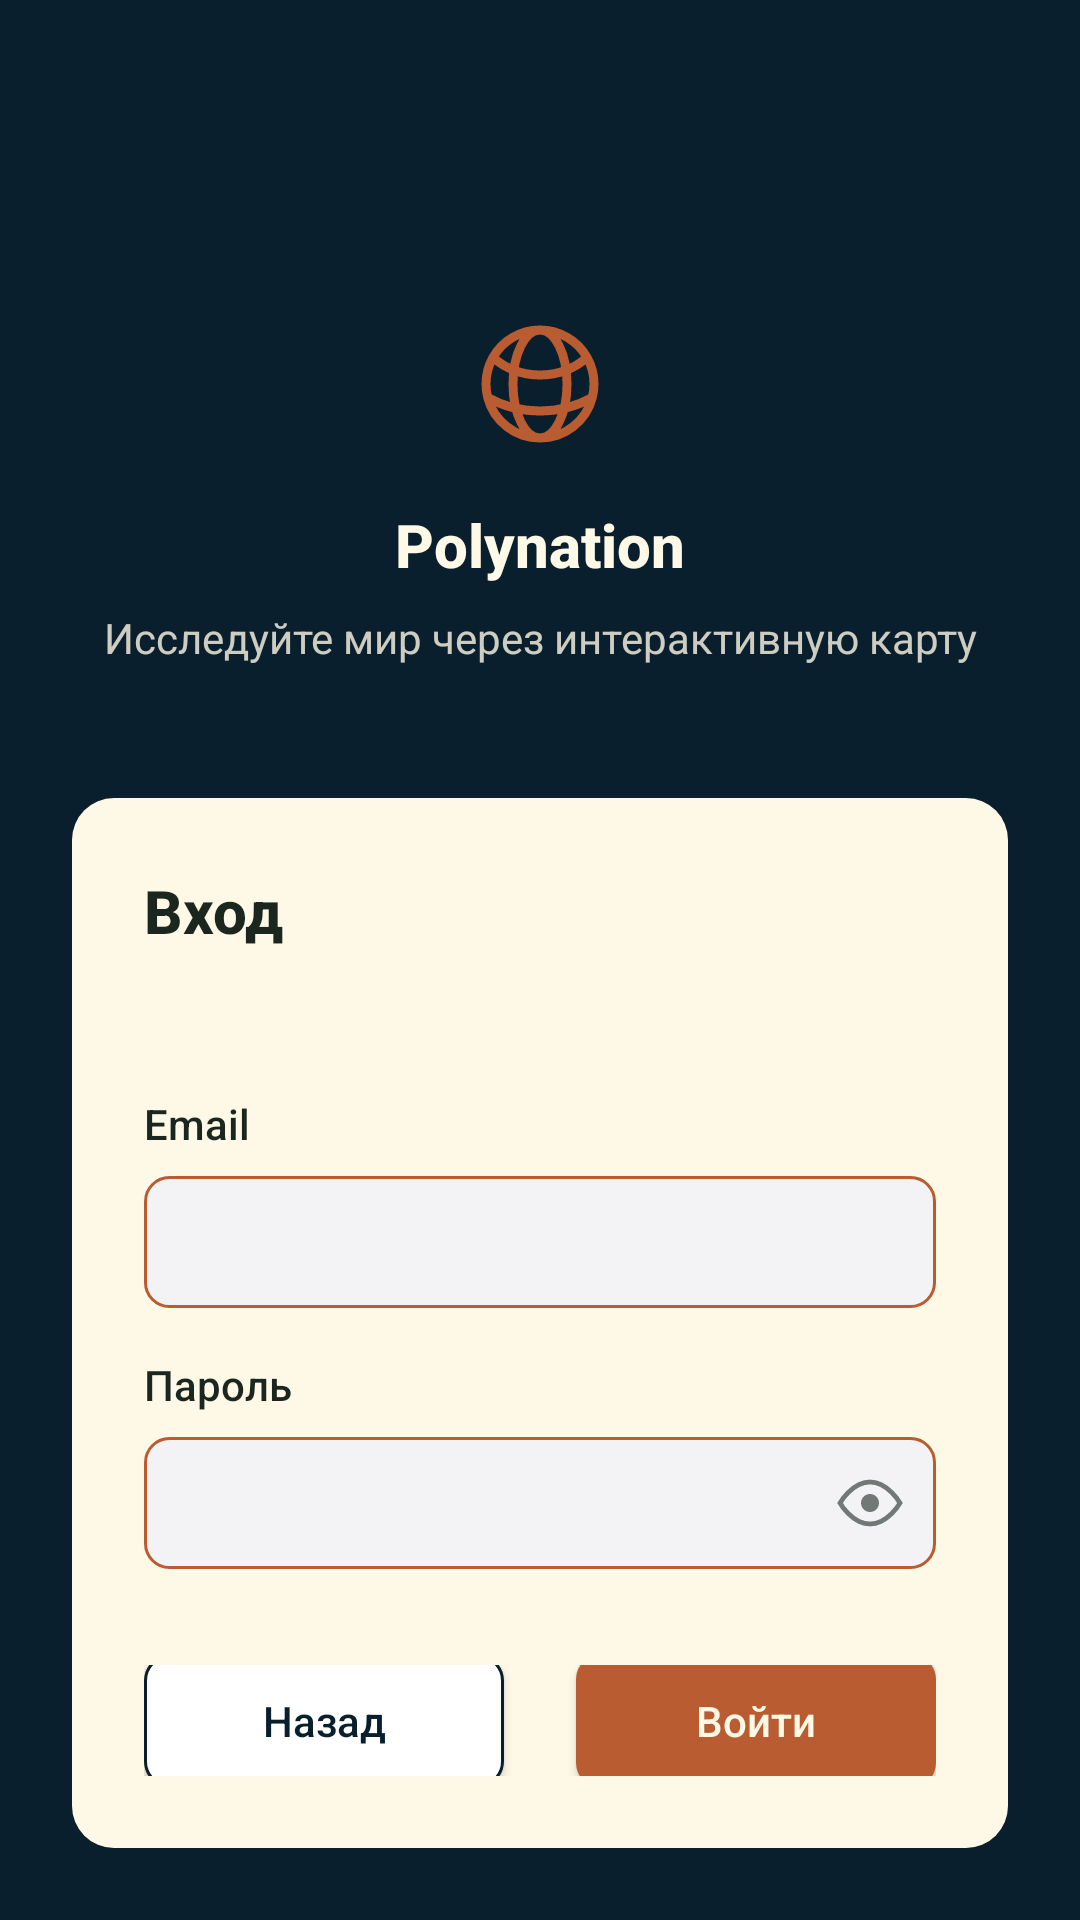

Screen size 1080 x 1920. Icon name, then its box in pixels as (x1,y1,x2,y2):
Показать пароль: (837,1479,903,1527)
